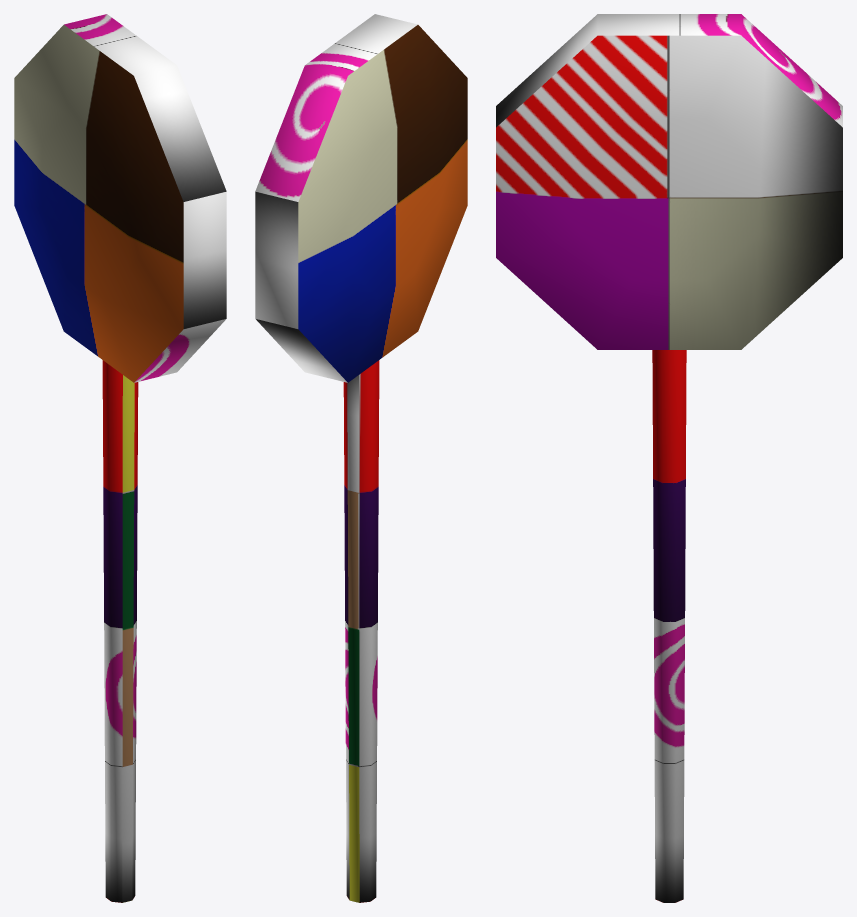
Rendered from lecca lecca mp.fbx.
3 views of the same model, side by side, from view 1: azimuth 30°, elevation 25°; view 2: azimuth 150°, elevation 25°; view 3: azimuth 270°, elevation 25° (orthographic). The views are drawn at different scales.
Visible parts, largest first — view 1: lecca_lecca_testa_mp, lecca_lecca_steak_mp; view 2: lecca_lecca_testa_mp, lecca_lecca_steak_mp; view 3: lecca_lecca_testa_mp, lecca_lecca_steak_mp.
Boxes of the visible parts, left/top/right/bottom form: lecca_lecca_testa_mp: left=14, top=14, right=226, bottom=382; lecca_lecca_steak_mp: left=102, top=360, right=138, bottom=902; lecca_lecca_testa_mp: left=255, top=14, right=467, bottom=382; lecca_lecca_steak_mp: left=343, top=360, right=379, bottom=902; lecca_lecca_testa_mp: left=496, top=14, right=842, bottom=349; lecca_lecca_steak_mp: left=652, top=350, right=686, bottom=902.
Bounding box in the file's own units: 0.2607 × 3.03 × 1.09.
